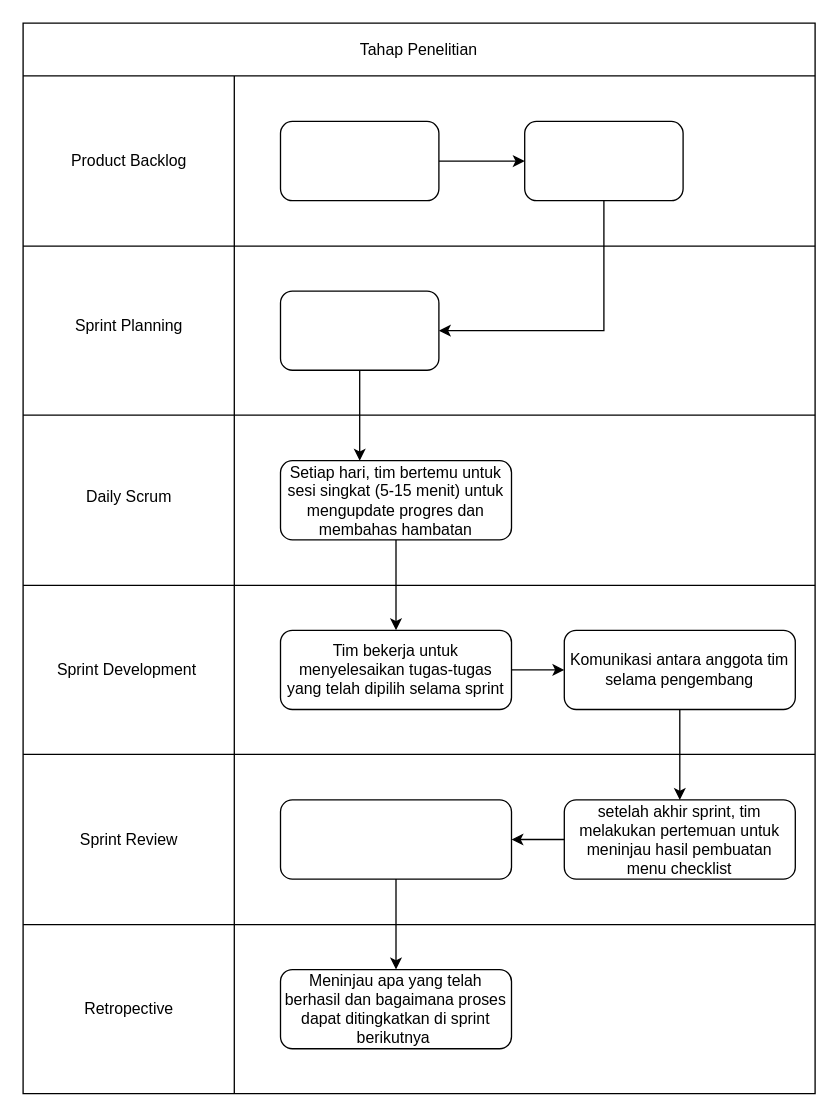
This 838x1117 diagram has some shape labels left out. Here are the shapes that lost their labels. From the top down, the box of each, then its label:
(279, 120, 439, 201): Identifikasi menu Checklist yang diinginkan untuk aplikasi elogbokk
(523, 120, 683, 201): Prioritas Menu Checklist berdasarkan nilai kebutuhan pengguna
(279, 290, 439, 370): Estimasi waktu dan usaha untuk menyelesaikan menu checklist
(279, 799, 512, 879): Evaluasi pencapaian terhadap tujuan sprint.
